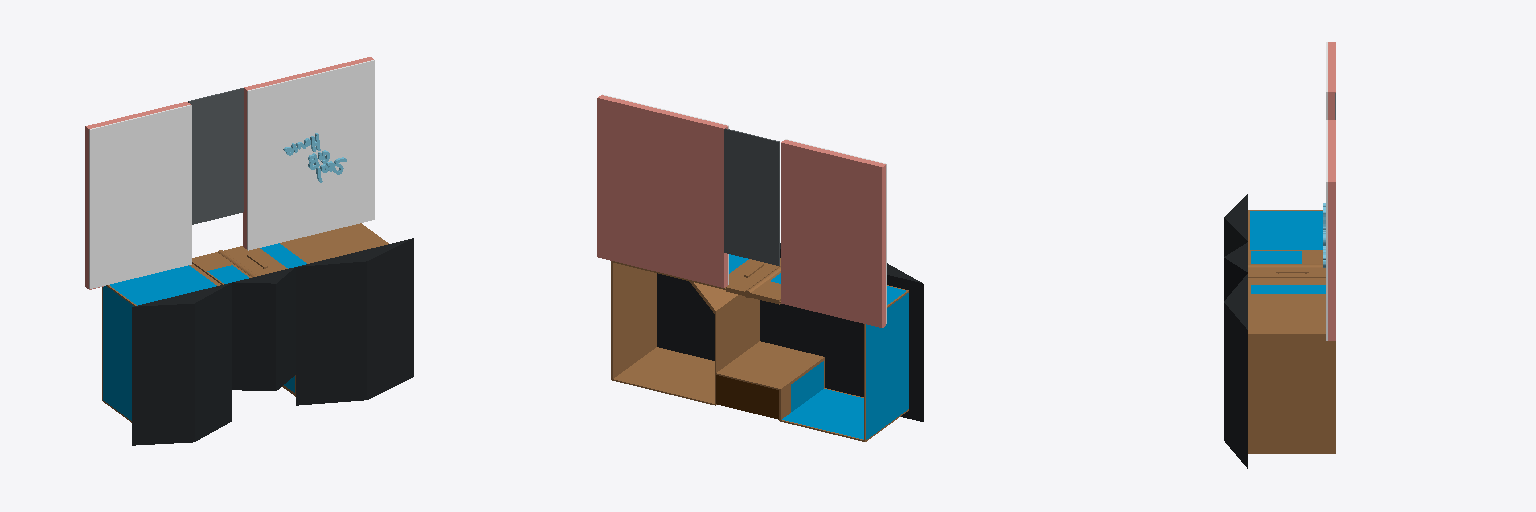
File: tinker.obj
3 renders of one model, left to right at view 1: azimuth 30°, elevation 25°; view 2: azimuth 150°, elevation 25°; view 3: azimuth 270°, elevation 25°, orthographic.
Visible parts, largest first — view 1: obj_0; view 2: obj_0; view 3: obj_0.
Boxes of the visible parts, x1=… form: obj_0: x1=85, y1=57, x2=413, y2=445; obj_0: x1=597, y1=94, x2=923, y2=441; obj_0: x1=1224, y1=42, x2=1335, y2=468.
Size of the model in its own units: 202 by 195 by 69.